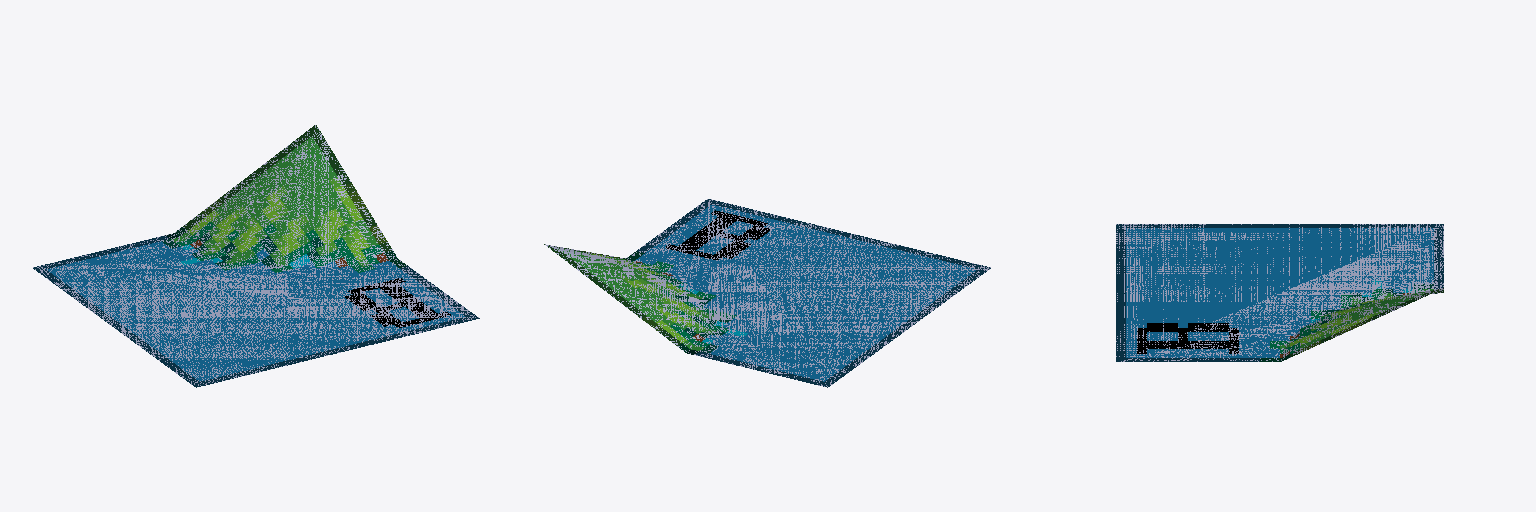
The picture shows the model from 3 angles: view 1: azimuth 30°, elevation 25°; view 2: azimuth 150°, elevation 25°; view 3: azimuth 270°, elevation 25°; orthographic projection.
Parts seen in each view (by area): view 1: Mesh1 Model; view 2: Mesh1 Model; view 3: Mesh1 Model.
Part boxes in pixels (x1,y1,x2,y2): Mesh1 Model: (33,125,479,387); Mesh1 Model: (544,199,990,387); Mesh1 Model: (1116,224,1443,361).
Size of the model in its own units: 32 by 8 by 32.
Materials: 2 (1 with a texture image).